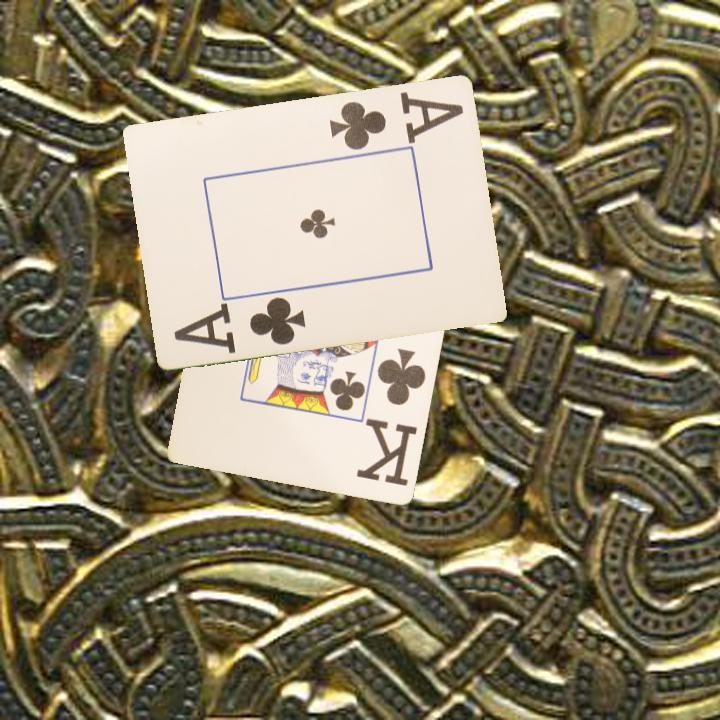Ac: (325, 87, 467, 153), (170, 292, 310, 356)
Kc: (354, 344, 429, 490)
